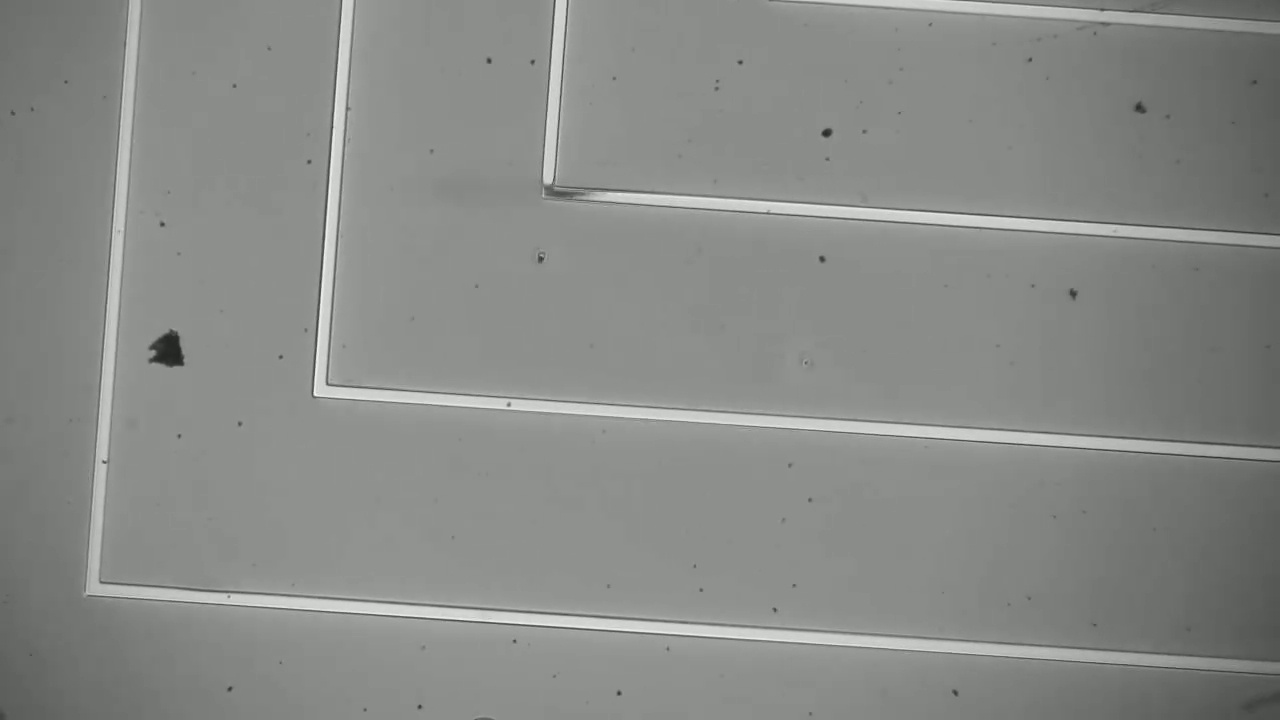gray_line: (530, 176, 616, 219)
